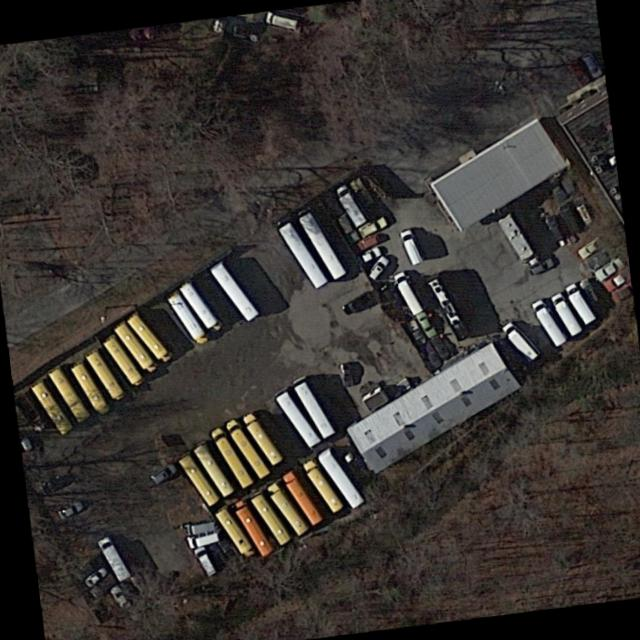large-vehicle: (299, 208, 344, 279), (278, 222, 326, 287), (208, 262, 258, 320), (317, 446, 363, 509), (208, 425, 254, 487), (223, 417, 269, 478), (273, 387, 319, 446), (292, 377, 335, 438), (231, 498, 275, 554), (164, 289, 208, 344), (191, 440, 234, 496), (29, 378, 71, 435), (176, 279, 221, 332), (265, 480, 308, 534), (241, 410, 282, 465), (126, 311, 171, 361), (177, 451, 219, 504), (249, 490, 290, 543), (213, 504, 254, 557), (302, 457, 342, 511), (48, 365, 88, 419), (114, 321, 156, 372), (101, 334, 143, 384), (84, 348, 124, 400), (283, 470, 321, 524), (71, 360, 108, 412), (529, 297, 568, 345), (499, 318, 541, 361), (548, 290, 582, 336), (97, 534, 129, 580), (334, 182, 367, 225), (563, 281, 596, 323), (391, 270, 422, 313), (398, 228, 423, 263)
small-vehicle: (190, 544, 217, 578), (585, 243, 616, 270), (341, 290, 374, 315), (262, 9, 299, 30), (580, 48, 604, 80), (413, 310, 438, 340), (594, 256, 625, 280), (54, 498, 84, 522), (576, 234, 606, 258), (357, 214, 388, 236), (365, 253, 390, 280), (151, 461, 179, 485), (404, 316, 427, 345), (186, 530, 219, 550), (82, 563, 109, 587), (109, 581, 132, 609), (527, 255, 556, 276), (577, 276, 598, 304), (354, 244, 381, 265), (183, 519, 215, 535), (336, 360, 355, 386), (354, 233, 382, 250)
